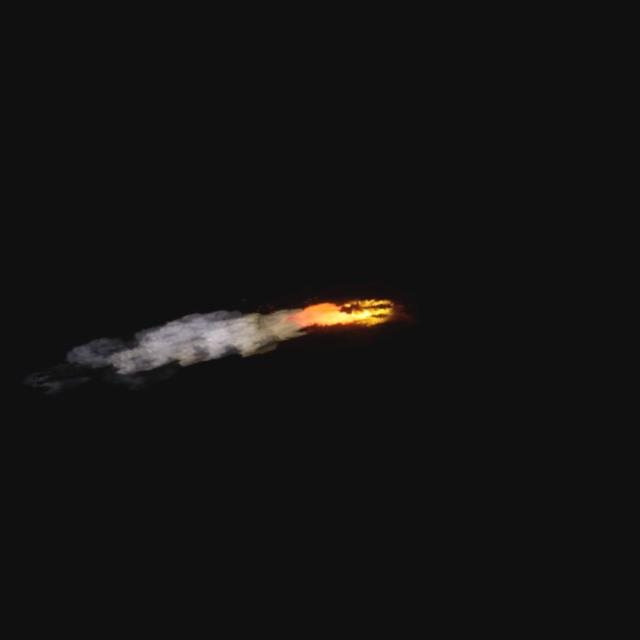fire: (284, 294, 391, 334)
smoke: (76, 305, 290, 379)
